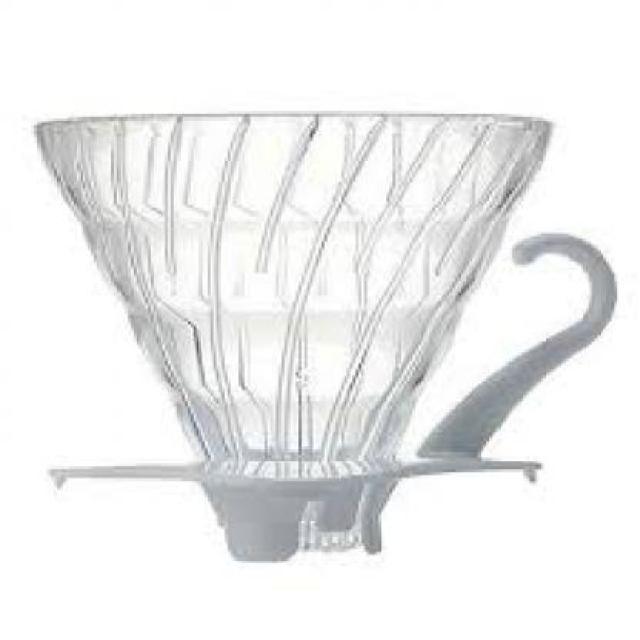kaca: (31, 114, 549, 546)
